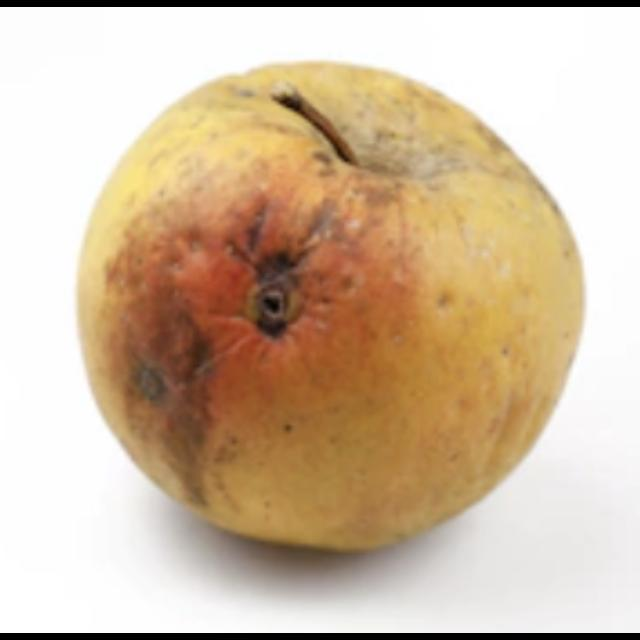Apel Tidak Segar: (80, 49, 592, 559)
